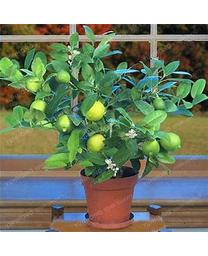lemon: (159, 132, 182, 152), (82, 100, 104, 120), (141, 136, 161, 158), (85, 134, 105, 153), (57, 114, 74, 134), (25, 73, 42, 92), (55, 69, 70, 84), (151, 99, 166, 112)
